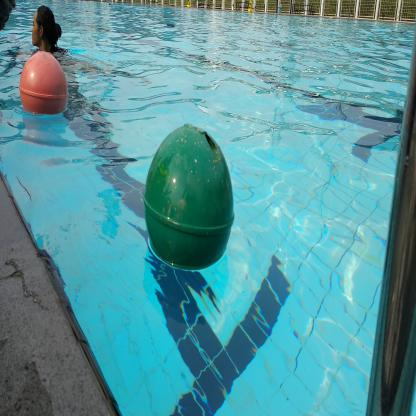green_buoy: (142, 119, 235, 266)
red_buoy: (18, 50, 71, 120)
